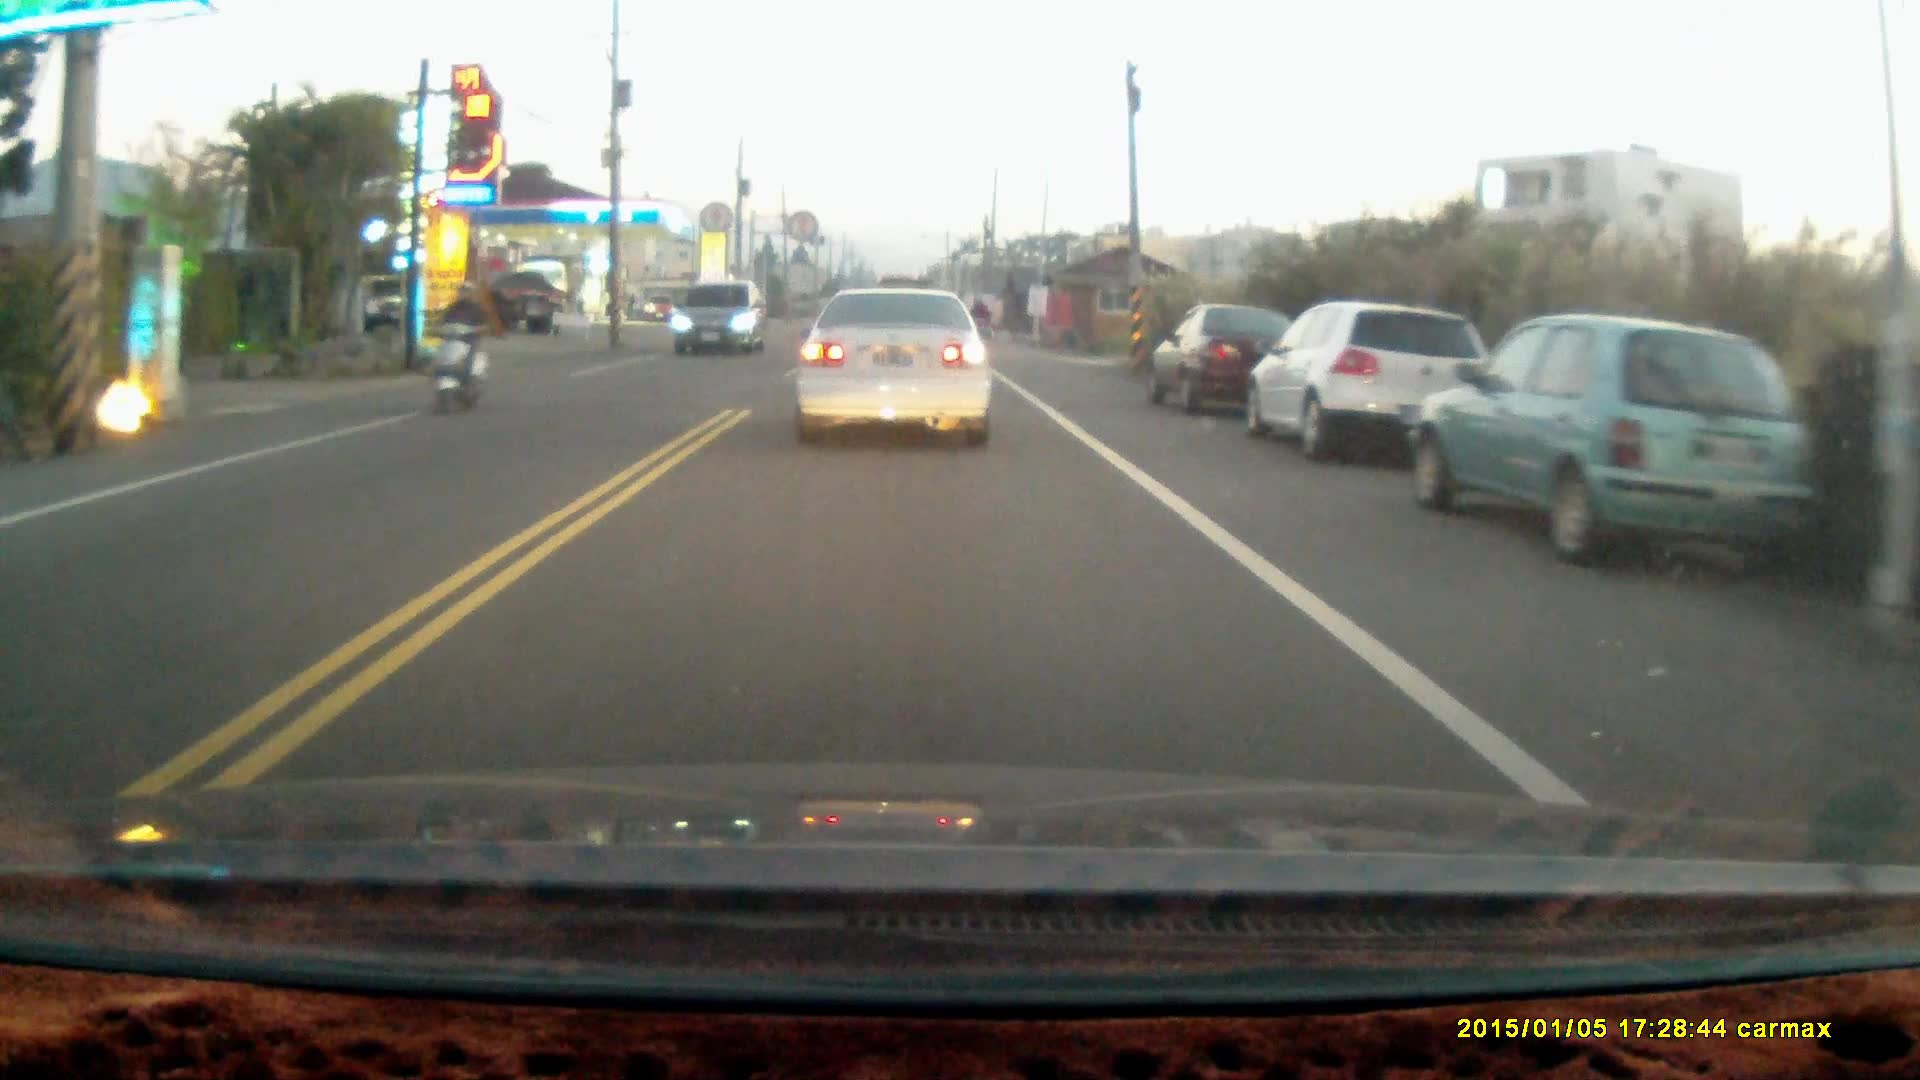rider: (425, 278, 486, 420)
vehicle: (1407, 319, 1813, 574), (1250, 306, 1489, 472), (793, 288, 996, 454), (1151, 310, 1302, 423), (669, 285, 768, 363)
